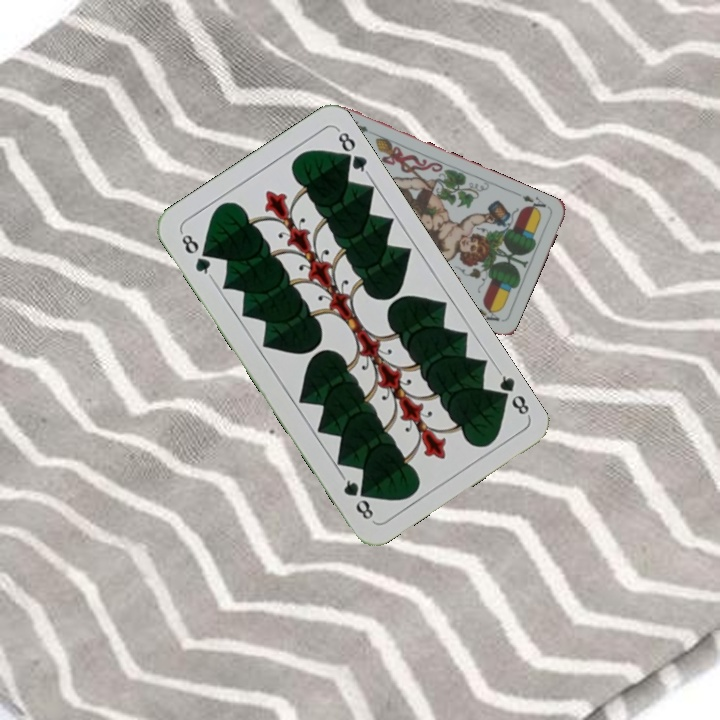EA: (518, 191, 549, 216)
G8: (490, 366, 532, 419), (177, 228, 215, 280)
